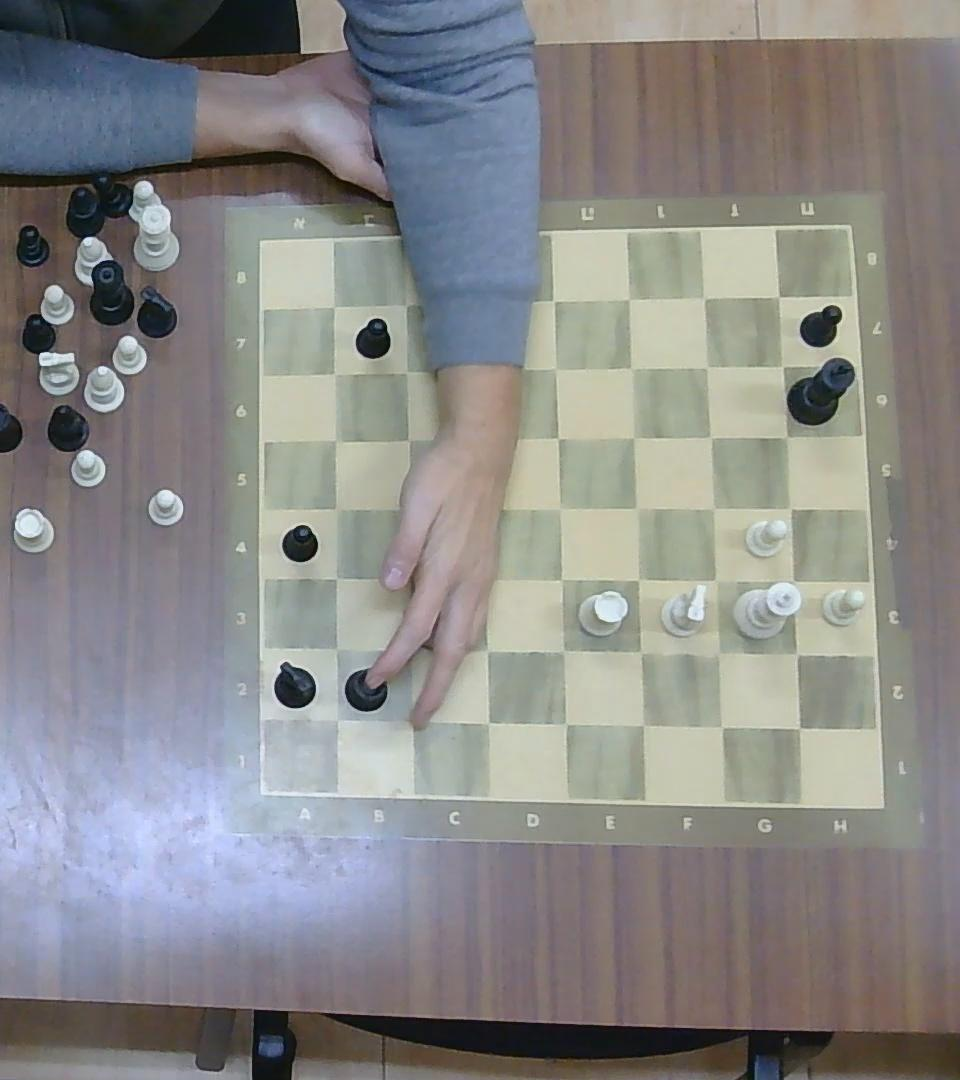xcorner: (781, 710, 815, 744), (701, 636, 734, 669), (776, 564, 810, 596), (467, 283, 499, 317), (626, 707, 658, 740), (548, 705, 579, 739), (705, 708, 736, 742), (621, 562, 653, 594), (625, 635, 656, 667), (781, 638, 812, 670), (699, 564, 730, 596), (321, 701, 352, 733), (470, 491, 501, 523), (538, 282, 568, 315), (469, 563, 500, 594), (472, 706, 502, 738), (548, 635, 578, 667), (615, 282, 645, 314), (698, 492, 728, 523), (776, 492, 806, 523), (622, 492, 652, 523), (390, 288, 420, 318), (320, 563, 350, 593), (618, 351, 648, 381), (395, 705, 425, 735), (548, 563, 577, 594), (395, 492, 424, 523), (321, 634, 350, 664), (397, 634, 426, 664), (472, 635, 501, 664), (693, 351, 722, 380), (318, 290, 346, 320), (542, 351, 570, 381), (396, 565, 424, 595), (392, 356, 420, 385), (691, 282, 719, 311), (621, 422, 649, 451), (545, 422, 573, 451), (698, 422, 726, 451), (769, 351, 797, 380), (772, 421, 801, 449), (465, 424, 493, 453), (323, 495, 351, 523), (463, 354, 489, 384), (765, 283, 793, 310), (323, 426, 349, 454), (322, 359, 348, 386), (547, 494, 573, 521), (396, 425, 422, 452)
